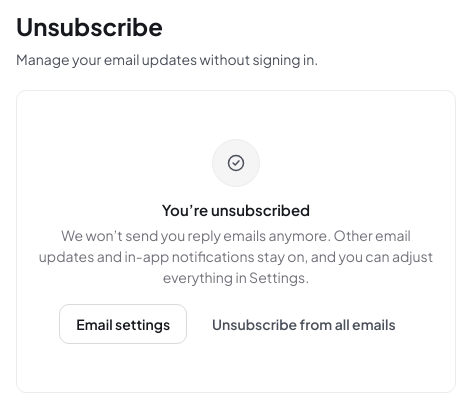
Test: /unsubscribe › turns off only the requested email category when ?kind= is given, and offers an optional Unsubscribe from all action (Check 7.3)
Expected: the text "You’re unsubscribed" is shown, [162,199,310,221]
Expected: the text "We won’t send you reply emails anymore" is shown, [39,226,433,286]
Click the button "Unsubscribe from all emails" at (304, 324), box [195,304,413,344]
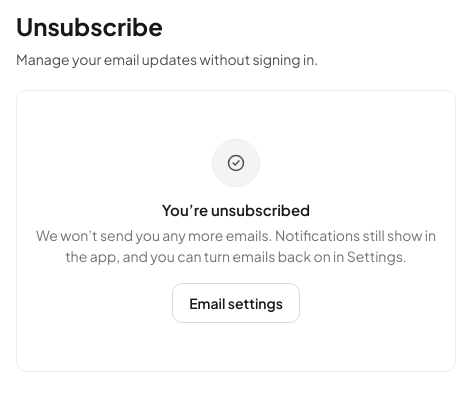
Expected: the text "We won’t send you any more emails" is shown, [36,226,436,265]
Expected: the button "Unsubscribe from all emails" is gone
